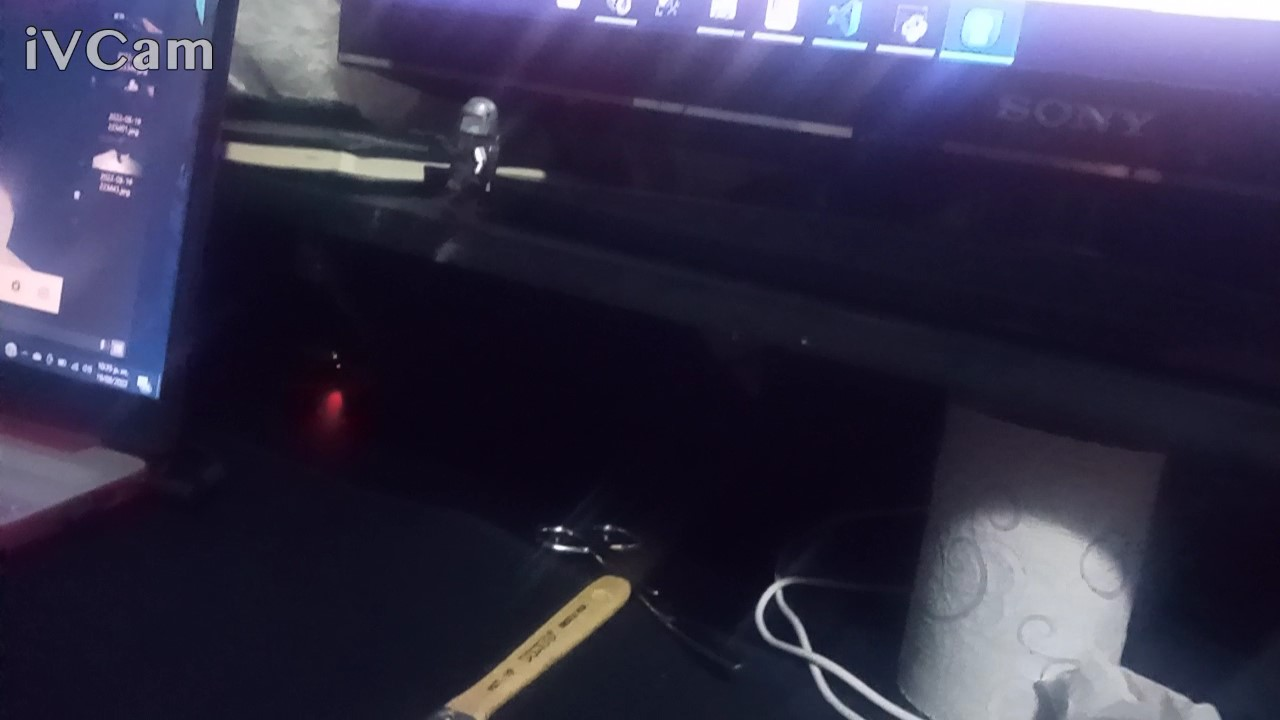mandalorian: (437, 79, 520, 248)
